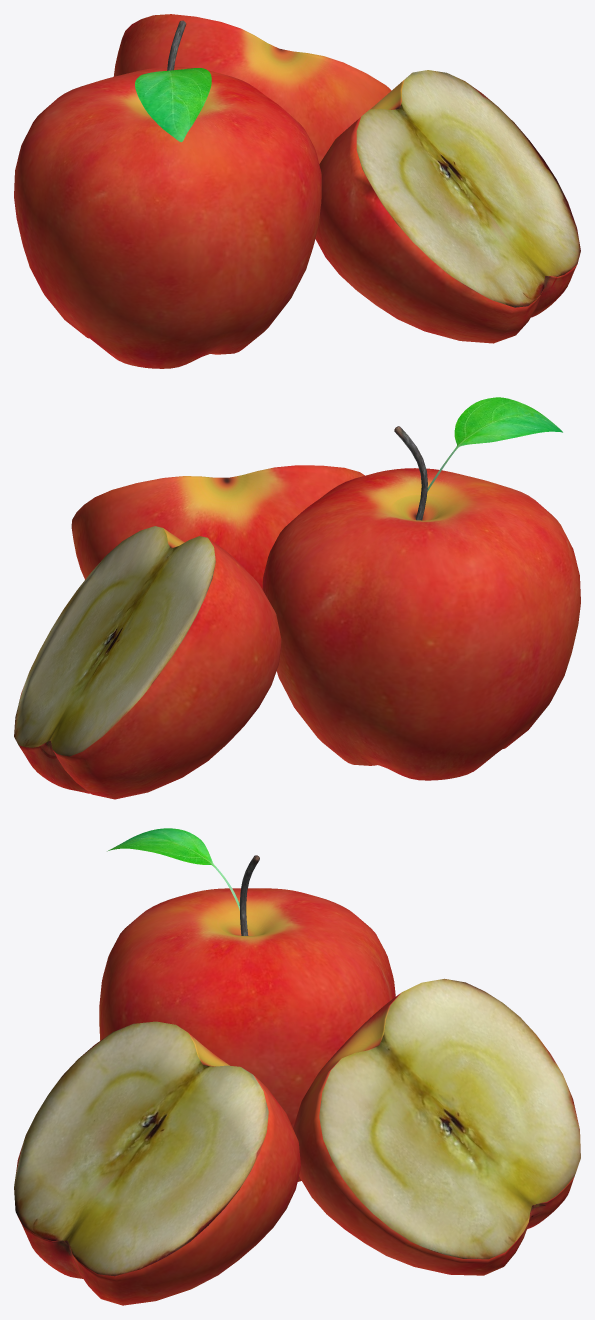
Rendered from cage_apple.glb.
3 views of the same model, one above another, from view 1: azimuth 30°, elevation 25°; view 2: azimuth 150°, elevation 25°; view 3: azimuth 270°, elevation 25° (orthographic). The views are drawn at different scales.
Visible parts, largest first — view 1: cage_apple; view 2: cage_apple; view 3: cage_apple.
Boxes of the visible parts, box(x1,y1,x2,y2) form: cage_apple: box(14, 14, 580, 368); cage_apple: box(14, 397, 580, 799); cage_apple: box(14, 828, 580, 1305).
Bounding box in the file's own units: 5.49 × 3.4 × 5.5.
Materials: 1 (1 with a texture image).
